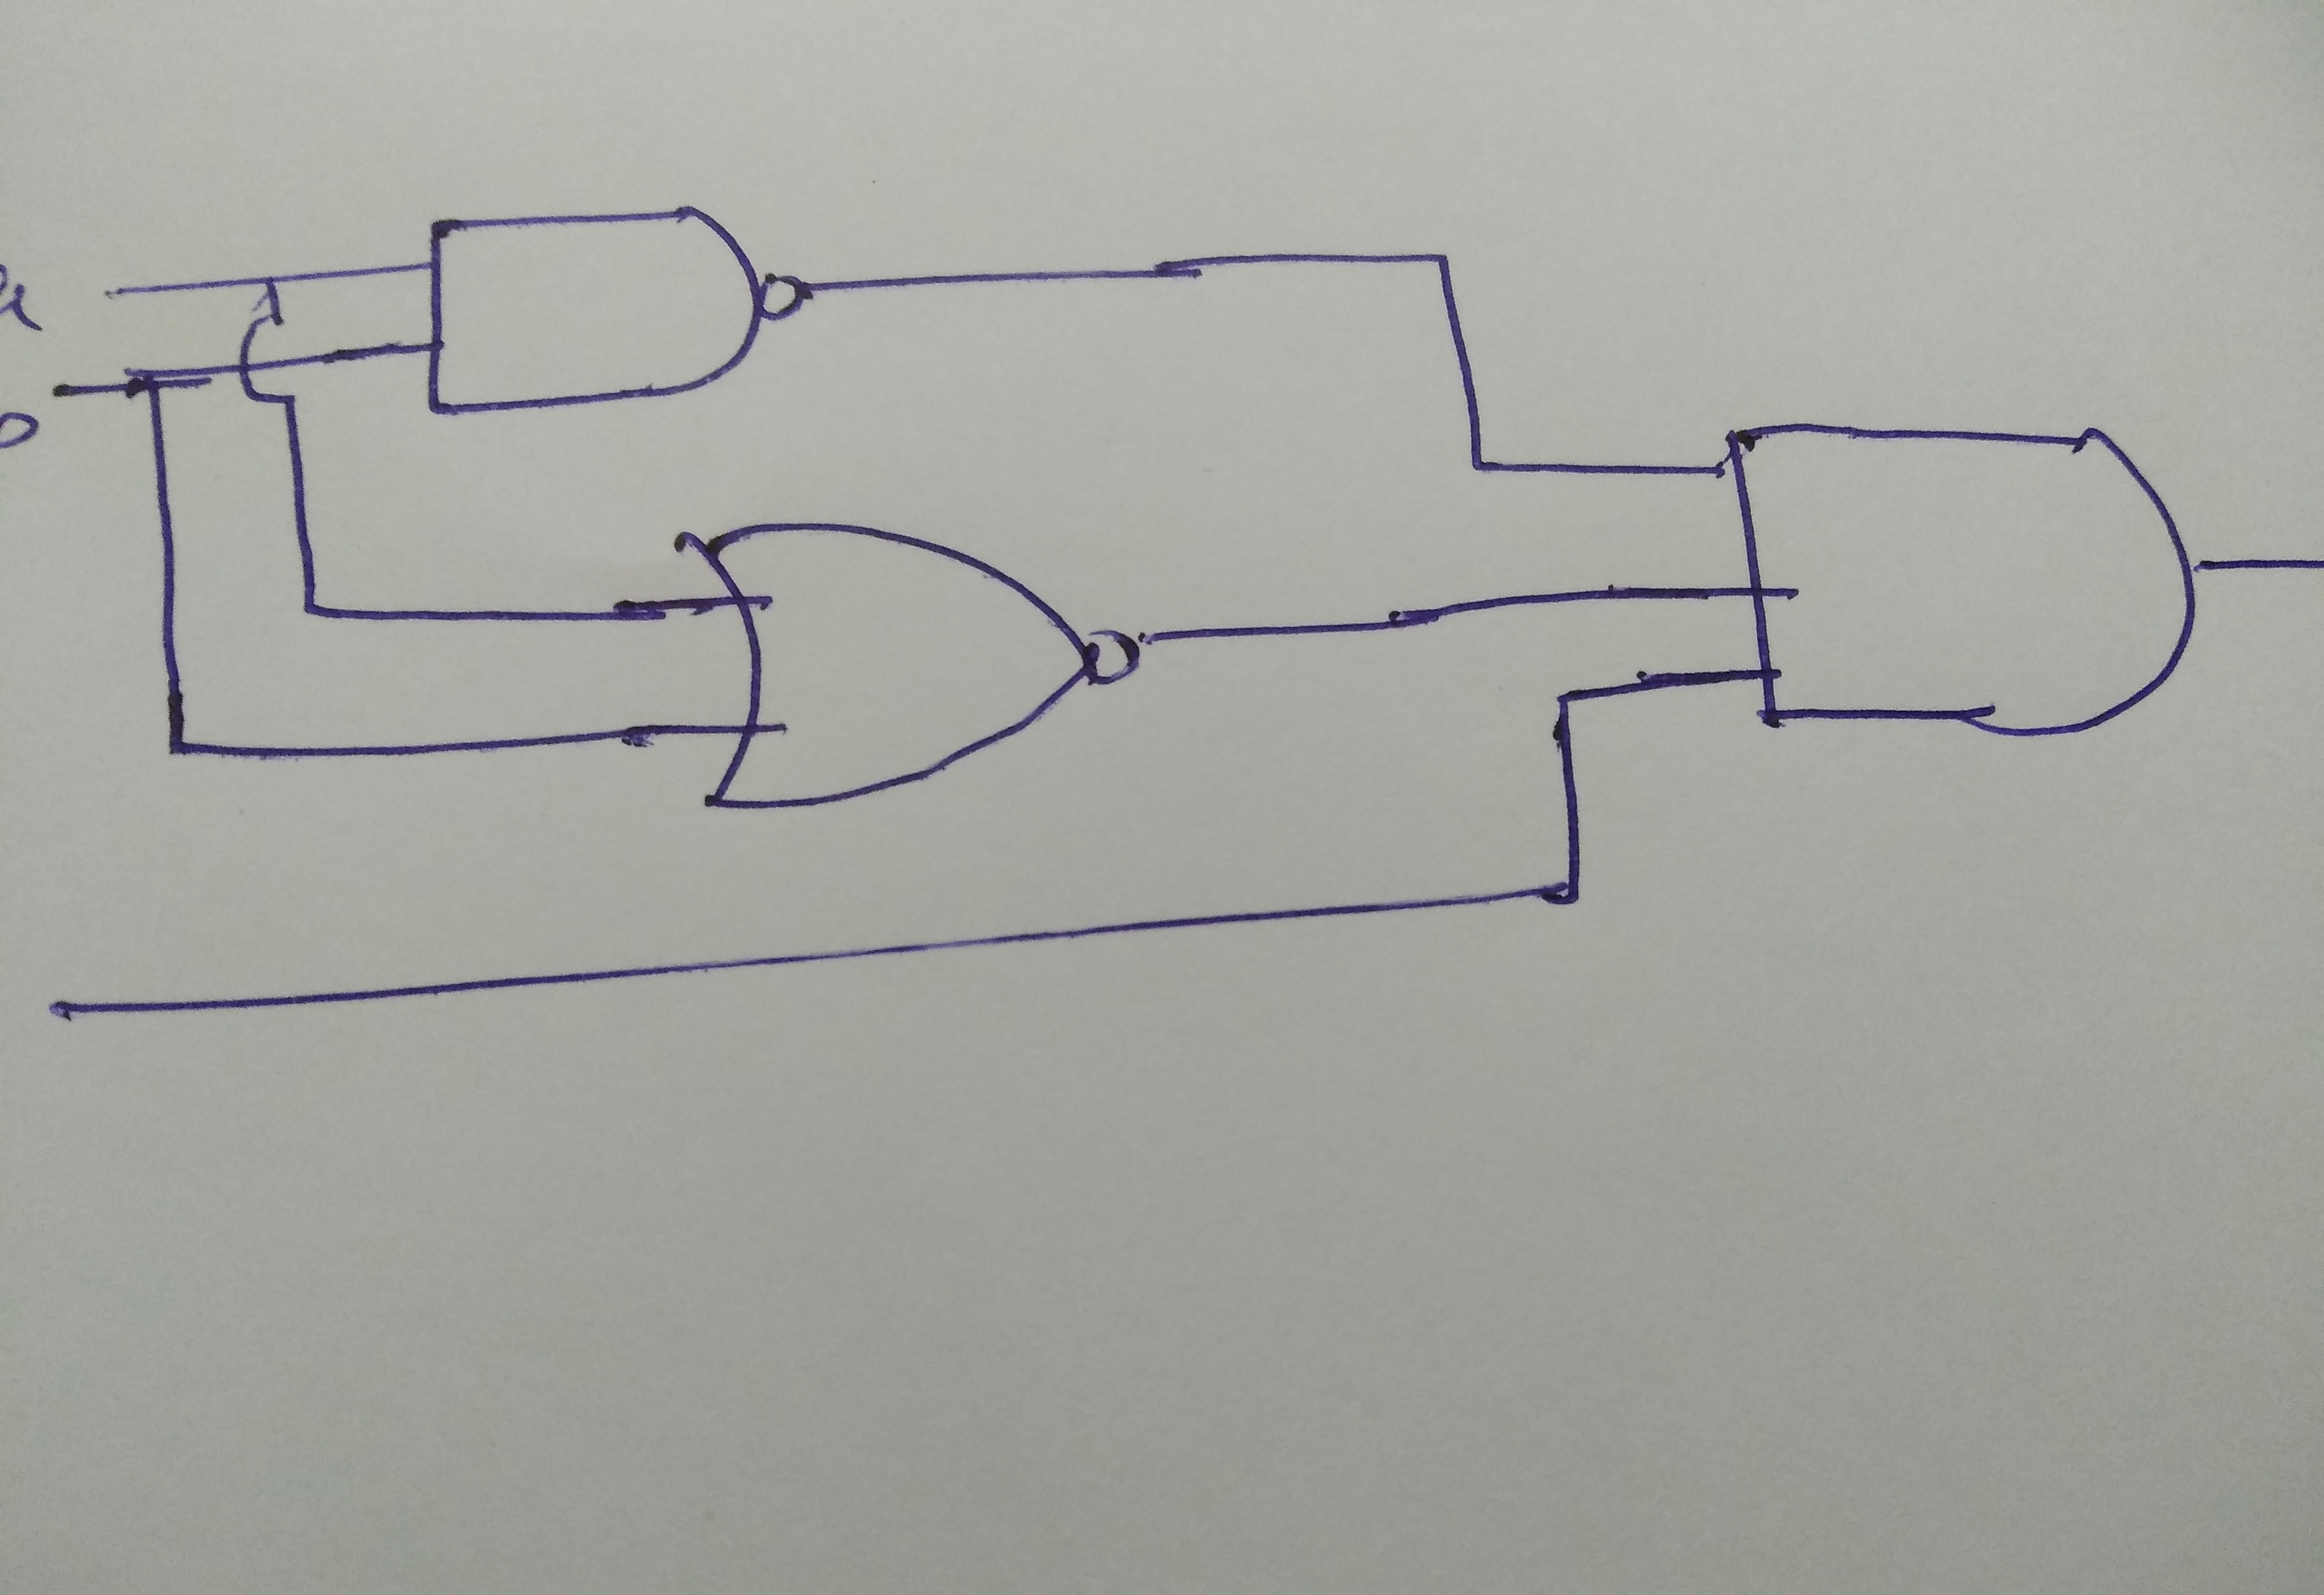and: (1676, 399, 2220, 779)
nand: (389, 173, 848, 443)
nor: (622, 480, 1206, 850)
